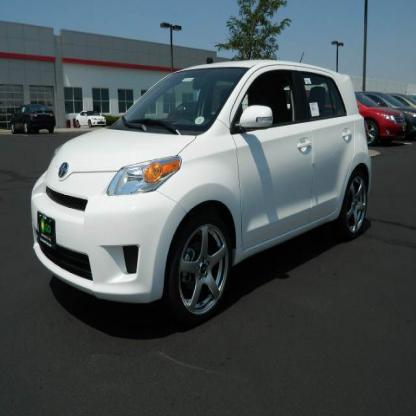Vehicle: (32, 60, 372, 328)
